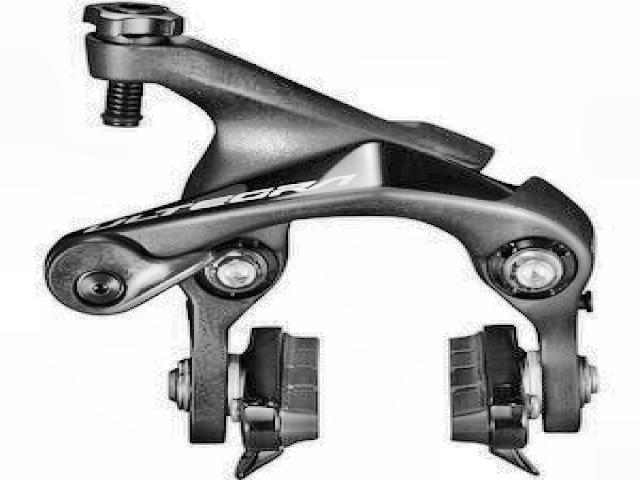rim_brake: (39, 4, 601, 478)
